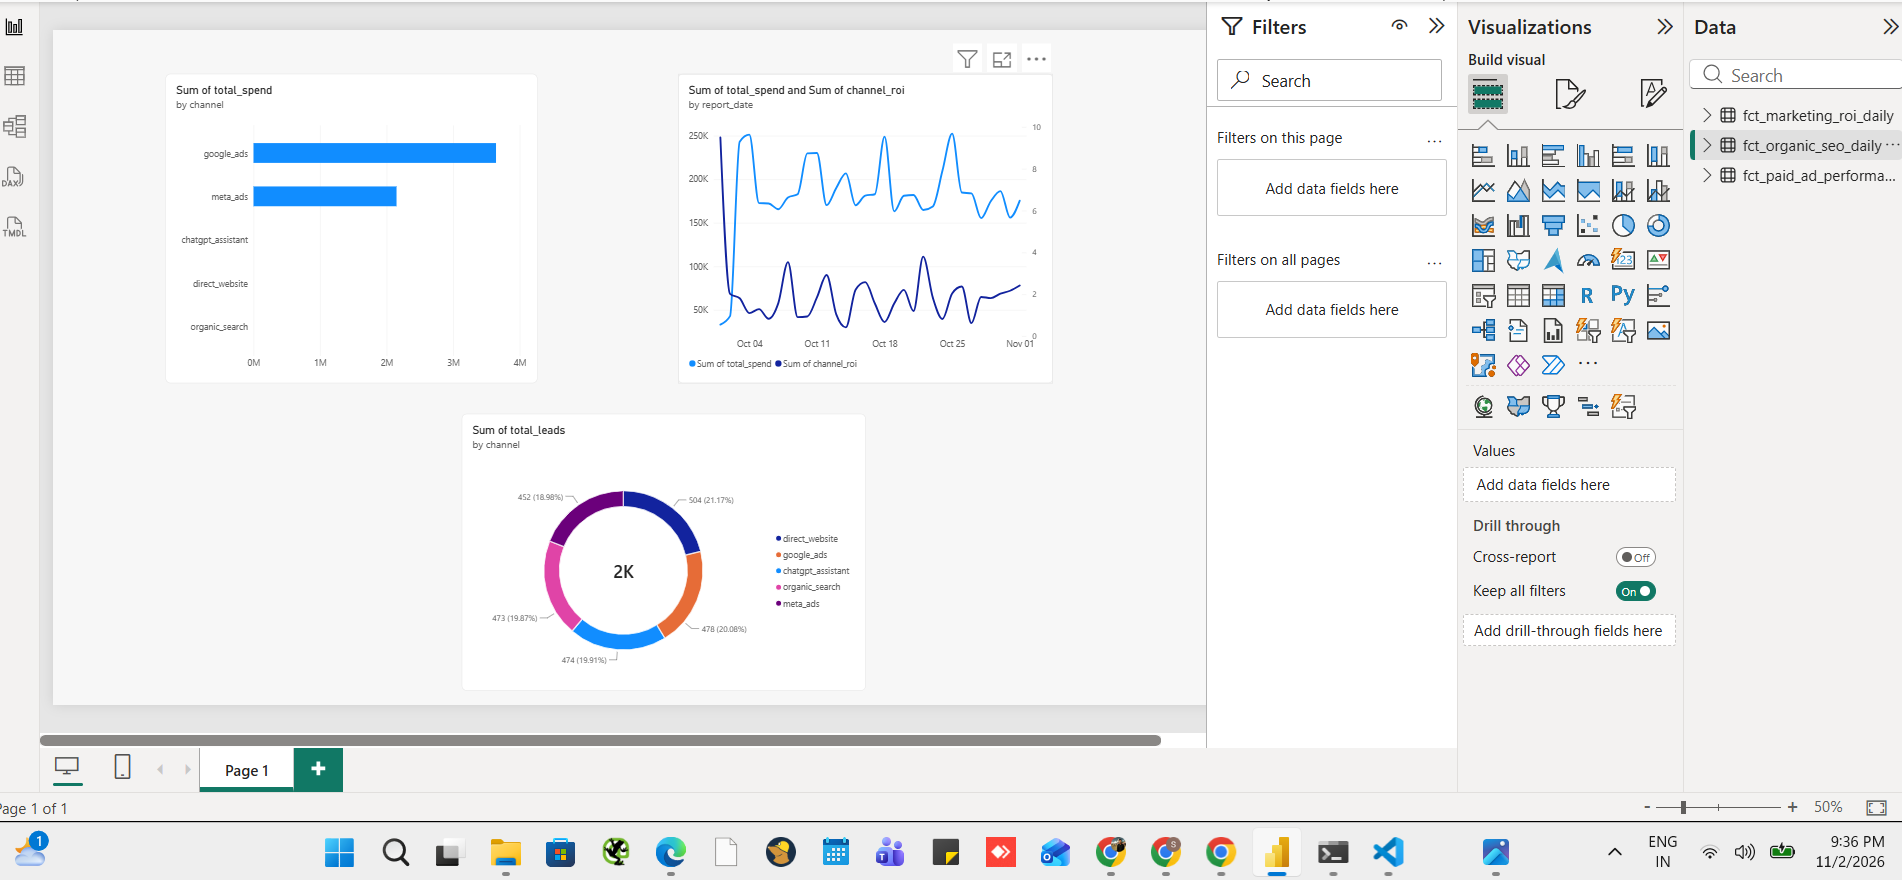

This screenshot's page, from the dashboard's own definition file:
{"tool":"powerbi","page":{"name":"Page 1","canvas":[1920,1080],"ordinal":0},"visuals":[{"type":"clusteredBarChart","fields":{"Category":["fct_marketing_roi_daily.channel"],"Y":["Sum(fct_marketing_roi_daily.total_spend)"]},"box":[180,70,595,495],"z":0},{"type":"lineChart","fields":{"Y":["Sum(fct_marketing_roi_daily.total_spend)"],"Y2":["Sum(fct_marketing_roi_daily.channel_roi)"],"Category":["fct_marketing_roi_daily.report_date"]},"box":[1000,70,600,495],"z":1},{"type":"donutChart","fields":{"Category":["fct_marketing_roi_daily.channel"],"Y":["Sum(fct_marketing_roi_daily.total_leads)"]},"box":[653.3,613.3,646.7,443.3],"z":2}]}

Visuals, with their boxes on the page's 1920x1080 design canvas (x1, y1, x2, y2). These are canvas units, not pixel positions in the 1902x880 screenshot, which may show the page scaled, cropped or inside an application window:
clusteredBarChart - fct_marketing_roi_daily.channel x Sum(fct_marketing_roi_daily.total_spend): {"x1": 180, "y1": 70, "x2": 775, "y2": 565}
lineChart - Sum(fct_marketing_roi_daily.total_spend) x Sum(fct_marketing_roi_daily.channel_roi): {"x1": 1000, "y1": 70, "x2": 1600, "y2": 565}
donutChart - fct_marketing_roi_daily.channel x Sum(fct_marketing_roi_daily.total_leads): {"x1": 653, "y1": 613, "x2": 1300, "y2": 1057}
